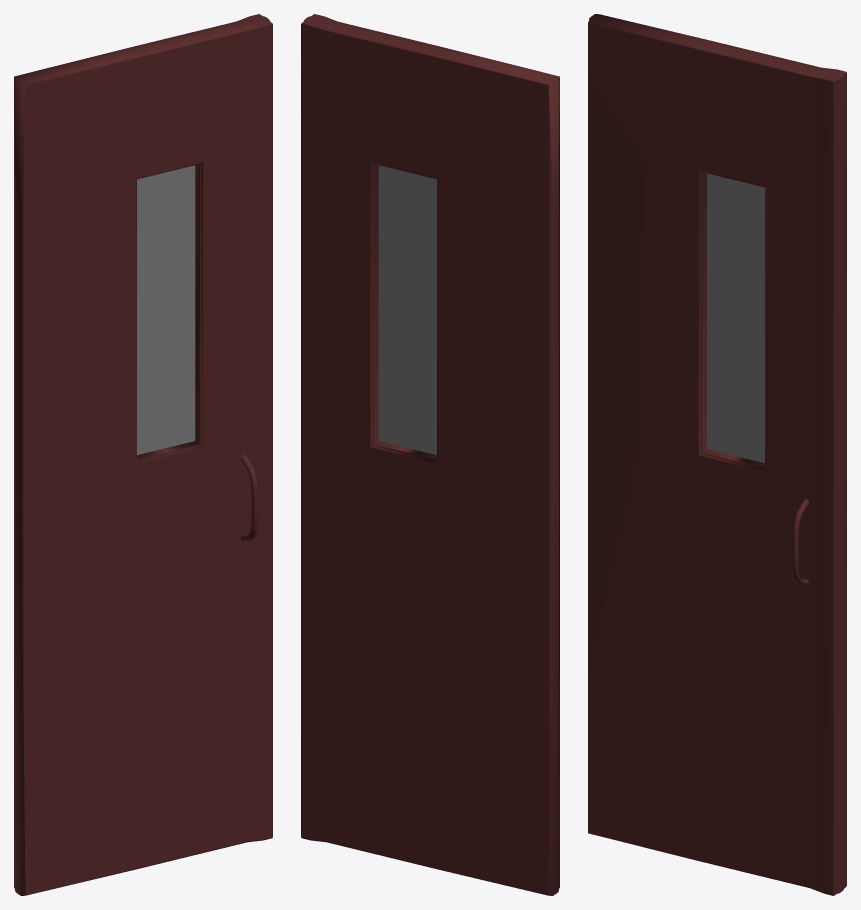
File: Env_Door_02.fbx
3 renders of one model, left to right at view 1: azimuth 30°, elevation 25°; view 2: azimuth 150°, elevation 25°; view 3: azimuth 330°, elevation 25°, orthographic.
Visible parts, largest first — view 1: Env_Door_02; view 2: Env_Door_02; view 3: Env_Door_02.
Part boxes in pixels (left/top/right/bottom): Env_Door_02: left=14, top=14, right=272, bottom=895; Env_Door_02: left=301, top=14, right=559, bottom=895; Env_Door_02: left=588, top=14, right=846, bottom=895.
Bounding box in the file's own units: 70.8 × 221 × 12.35.
